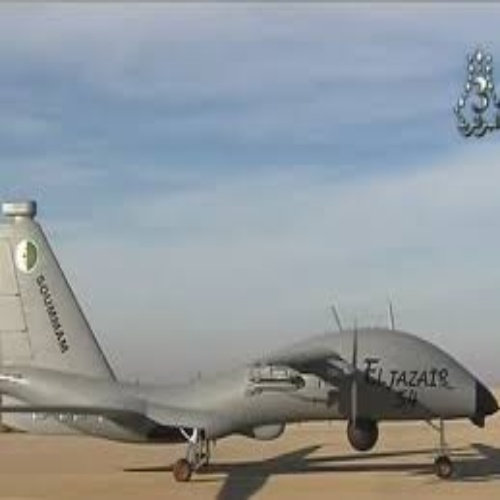uav: (1, 199, 500, 486)
